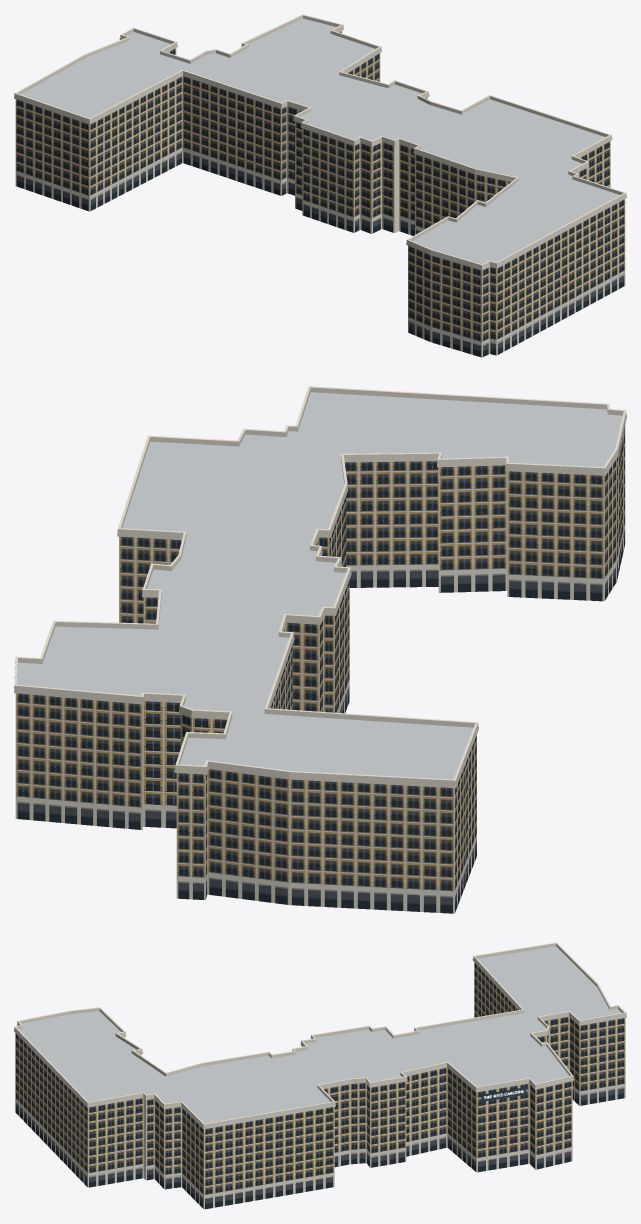
The model's file is ritz.glb.
3 renders of one model, top to bottom at view 1: azimuth 30°, elevation 25°; view 2: azimuth 150°, elevation 25°; view 3: azimuth 270°, elevation 25°, orthographic. The views are drawn at different scales.
Parts seen in each view (by area): view 1: ritz_lod0; view 2: ritz_lod0; view 3: ritz_lod0.
Part boxes in pixels (bbox=[...]): ritz_lod0: bbox=[14, 14, 626, 357]; ritz_lod0: bbox=[14, 386, 626, 913]; ritz_lod0: bbox=[14, 942, 626, 1209].
Size of what is drawn, in the model's own units: 143 by 31.11 by 202.
Materials: 5 (3 with a texture image).
